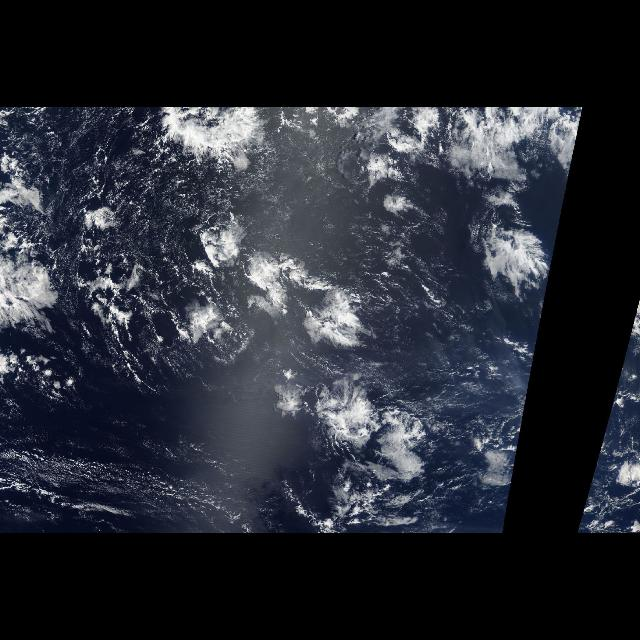Flower: (245, 254, 431, 478)
Gravel: (32, 116, 168, 254)
Sugar: (1, 111, 181, 273), (5, 427, 254, 533), (259, 163, 365, 251)
